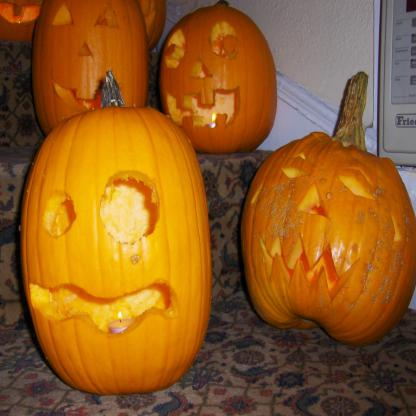Pumpkin: (20, 71, 212, 393), (240, 68, 416, 348), (158, 0, 276, 155), (28, 0, 150, 139), (0, 0, 45, 42), (140, 0, 166, 52)
